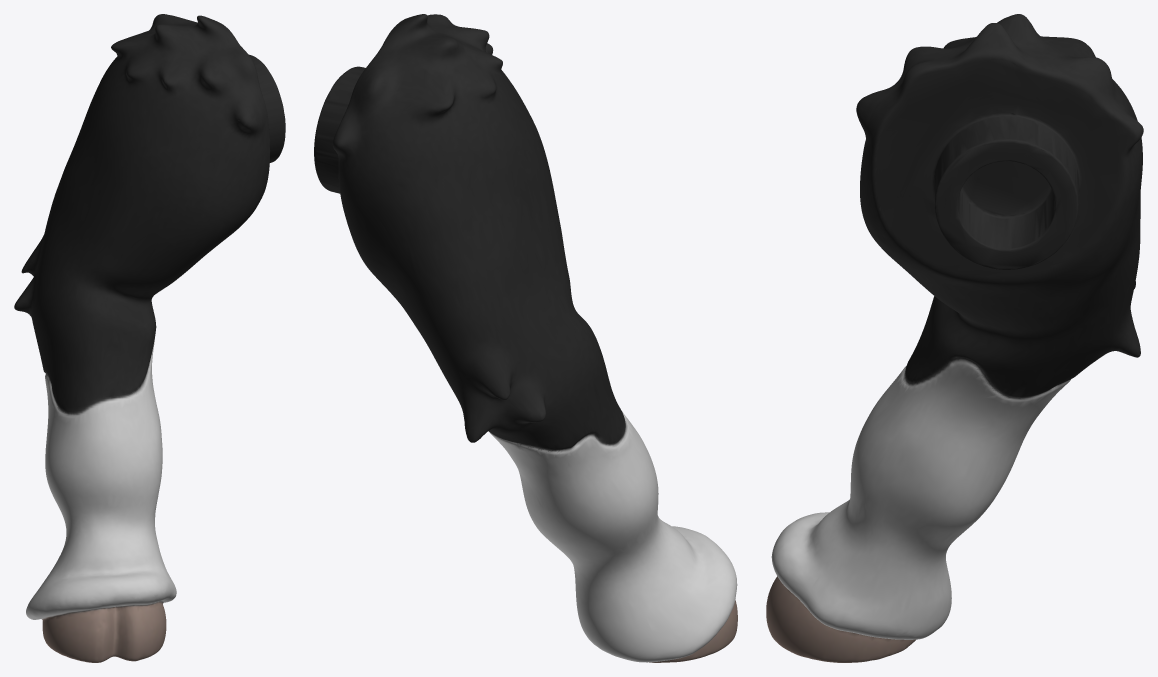
File: Bras_Vache_rg.glb
3 renders of one model, left to right at view 1: azimuth 30°, elevation 25°; view 2: azimuth 150°, elevation 25°; view 3: azimuth 270°, elevation 25°, orthographic. The views are drawn at different scales.
Parts seen in each view (by area): view 1: Bras_Vache_rg; view 2: Bras_Vache_rg; view 3: Bras_Vache_rg.
Boxes of the visible parts, x1,y1,x2,y2 form: Bras_Vache_rg: [14, 14, 285, 662]; Bras_Vache_rg: [314, 14, 737, 662]; Bras_Vache_rg: [766, 14, 1143, 662].
Size of the model in its own units: 2.47 by 4.65 by 2.25.
